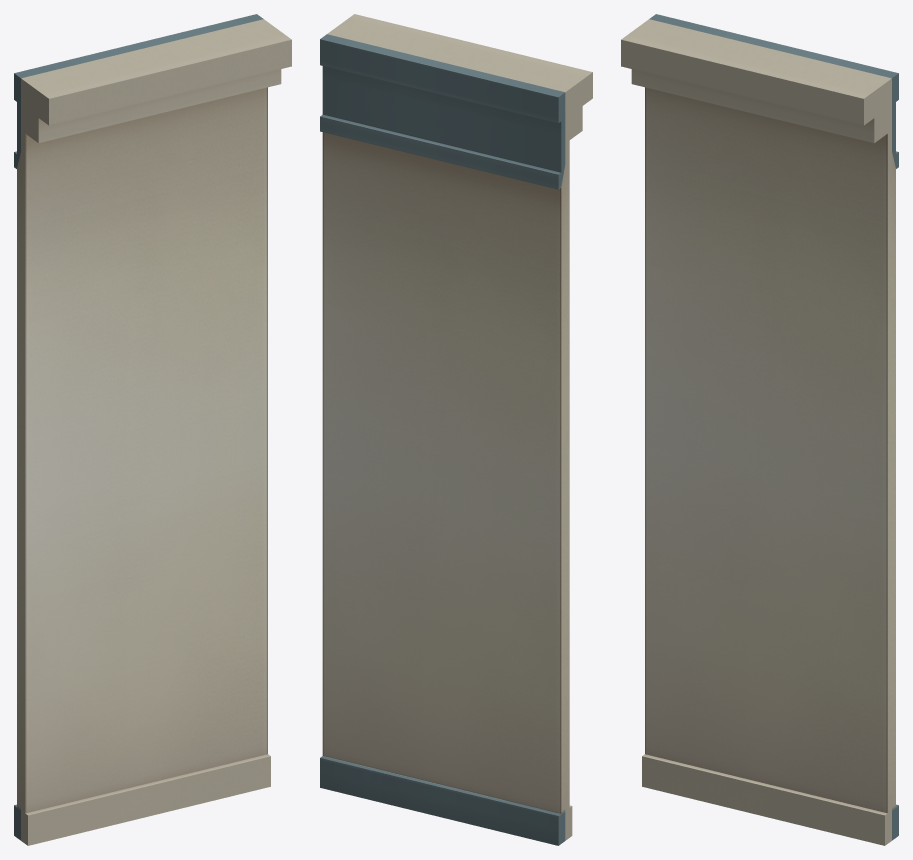
Rendered from SHW_Wall_01_06.fbx.
3 views of the same model, side by side, from view 1: azimuth 30°, elevation 25°; view 2: azimuth 150°, elevation 25°; view 3: azimuth 330°, elevation 25° (orthographic).
Parts seen in each view (by area): view 1: shw_wall_01_06; view 2: shw_wall_01_06; view 3: shw_wall_01_06.
Boxes of the visible parts, <box> form: shw_wall_01_06: <box>14,14,291,845</box>; shw_wall_01_06: <box>320,14,592,845</box>; shw_wall_01_06: <box>621,14,898,845</box>.
Size of the model in its own units: 100 by 300 by 25.
